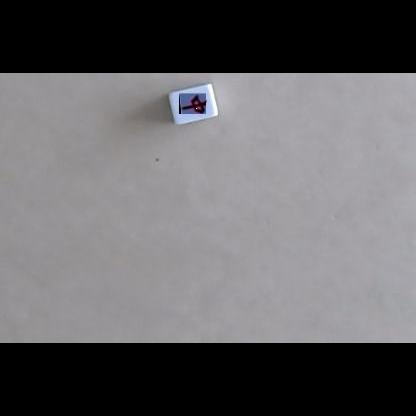7z: (179, 93, 206, 114)
